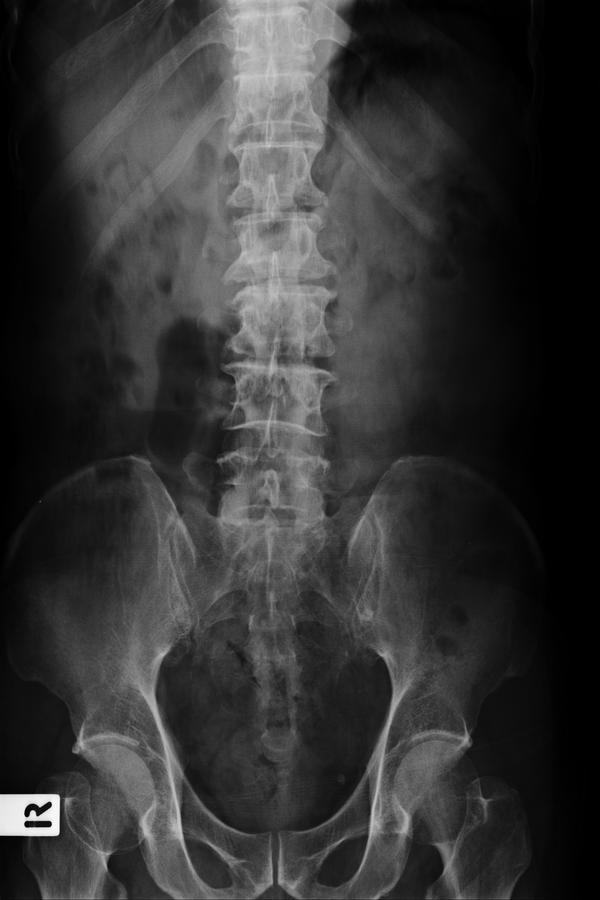lumbar scoliosis: (207, 200, 348, 557)
